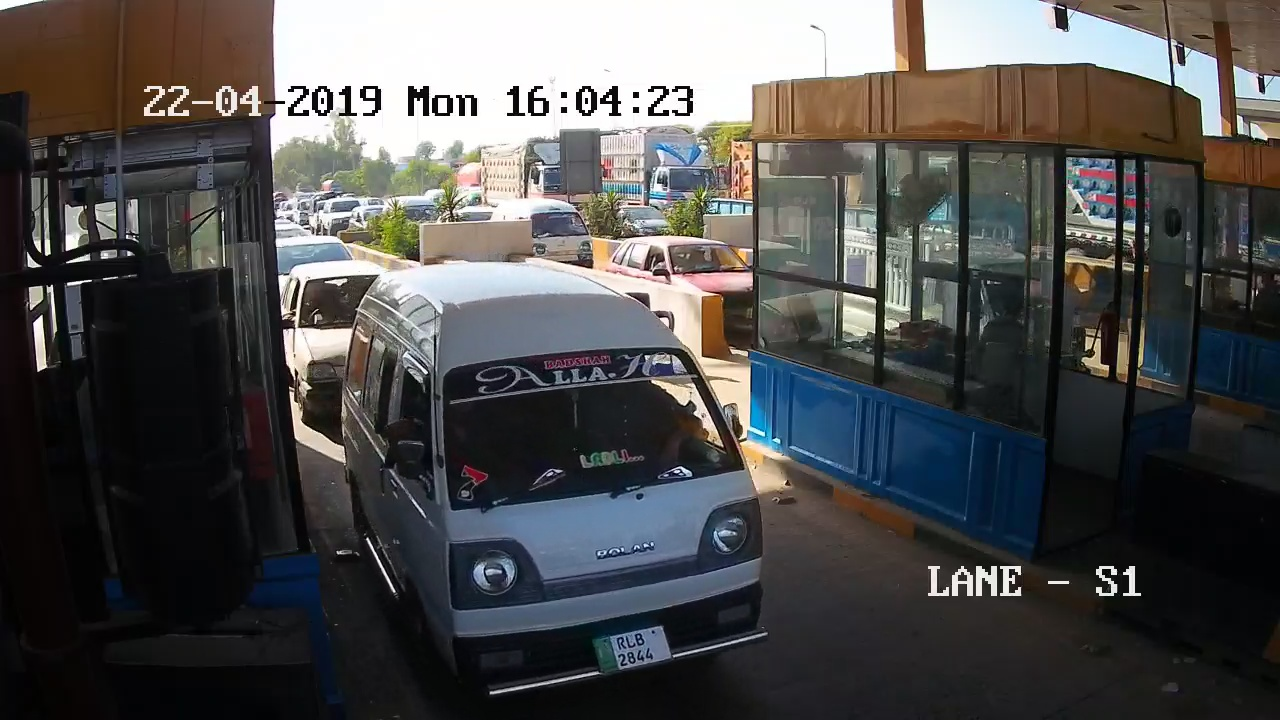Number Plate (Car): (584, 629, 679, 672)
